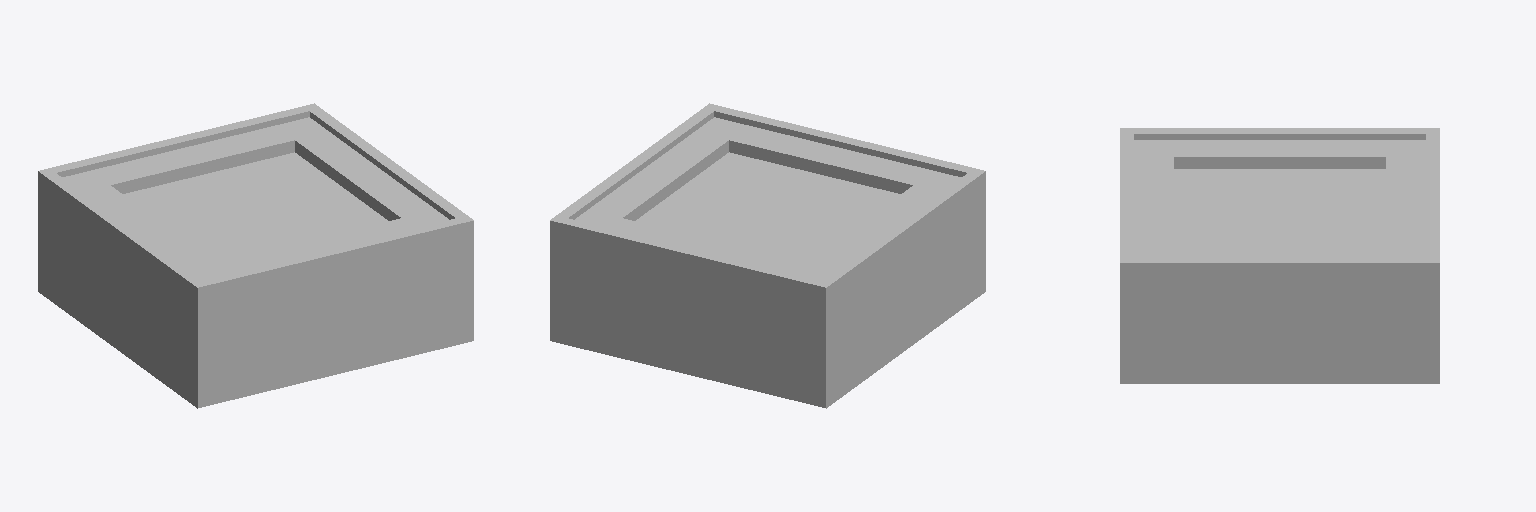
Rendered from 2011_hottub.obj.
The picture shows the model from 3 angles: view 1: azimuth 30°, elevation 25°; view 2: azimuth 150°, elevation 25°; view 3: azimuth 270°, elevation 25°; orthographic projection.
Parts seen in each view (by area): view 1: 7, 9, 8, 1, 4, water5$p, StraightN, StraightE, water2$p, water6$p, CornerNE, CornerNW (+16 smaller); view 2: 1, 3, 2, 7, 4, water5$p, StraightS, StraightE, water6$p, water8$p, CornerSE, CornerSW (+16 smaller); view 3: 3, 9, 6, water5$p, StraightW, water2$p, water8$p, water4$p, StraightN, StraightS, 1, 7 (+17 smaller).
Boxes of the visible parts, box(x1,y1,x2,y2) form: 7: box(144, 246, 289, 408); 9: box(376, 182, 473, 362); 8: box(283, 238, 381, 385); 1: box(38, 149, 136, 329); 4: box(91, 207, 154, 368); water5$p: box(183, 183, 327, 244); StraightN: box(137, 137, 248, 185); StraightE: box(322, 151, 407, 210); water2$p: box(157, 164, 274, 204); water6$p: box(276, 172, 373, 221); CornerNE: box(230, 117, 328, 162); CornerNW: box(62, 159, 156, 193); 1: box(734, 246, 879, 408); 3: box(550, 182, 647, 362); 2: box(642, 238, 740, 385); 7: box(887, 149, 985, 329); 4: box(869, 207, 932, 368); water5$p: box(696, 183, 840, 244); StraightS: box(775, 137, 886, 185); StraightE: box(616, 151, 701, 209); water6$p: box(649, 172, 747, 221); water8$p: box(749, 164, 866, 204); CornerSE: box(695, 117, 793, 162); CornerSW: box(867, 159, 961, 193); 3: box(1333, 218, 1439, 383); 9: box(1120, 218, 1226, 383); 6: box(1227, 258, 1332, 383); water5$p: box(1227, 191, 1332, 235); StraightW: box(1227, 140, 1332, 168); water2$p: box(1333, 191, 1385, 235); water8$p: box(1174, 191, 1226, 235); water4$p: box(1227, 169, 1332, 190); StraightN: box(1386, 179, 1425, 223); StraightS: box(1134, 179, 1173, 223); 1: box(1333, 128, 1439, 172); 7: box(1120, 128, 1226, 172).
Size of the model in its own units: 3 by 1.25 by 3.